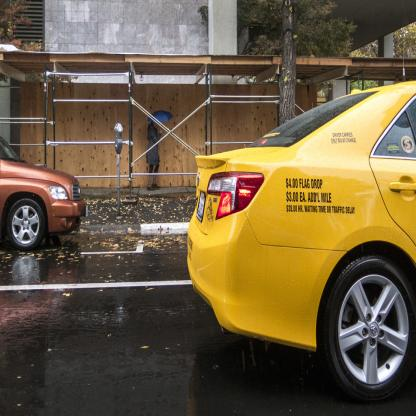Car: (188, 69, 416, 402), (1, 146, 79, 253)
